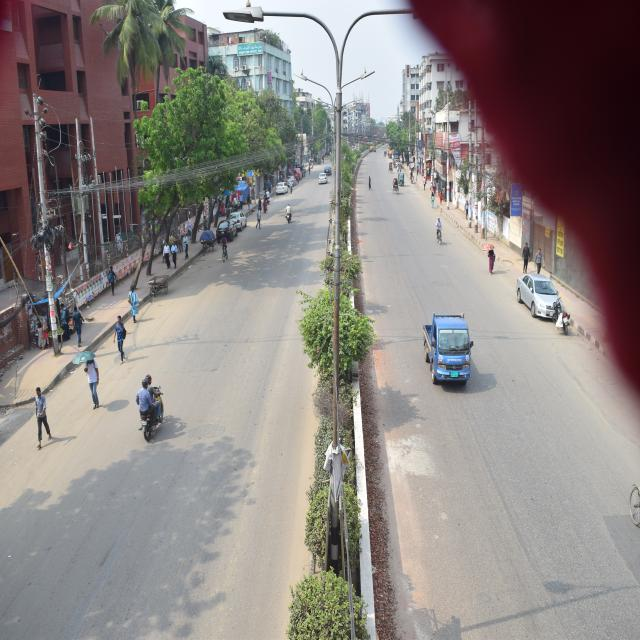car: (517, 252, 561, 323), (213, 211, 240, 241), (230, 198, 247, 232), (315, 170, 329, 187), (322, 160, 332, 178), (275, 181, 287, 194)
motorbike: (126, 371, 168, 450), (543, 281, 569, 339), (282, 204, 301, 233)
pickup-van: (412, 309, 479, 397)
